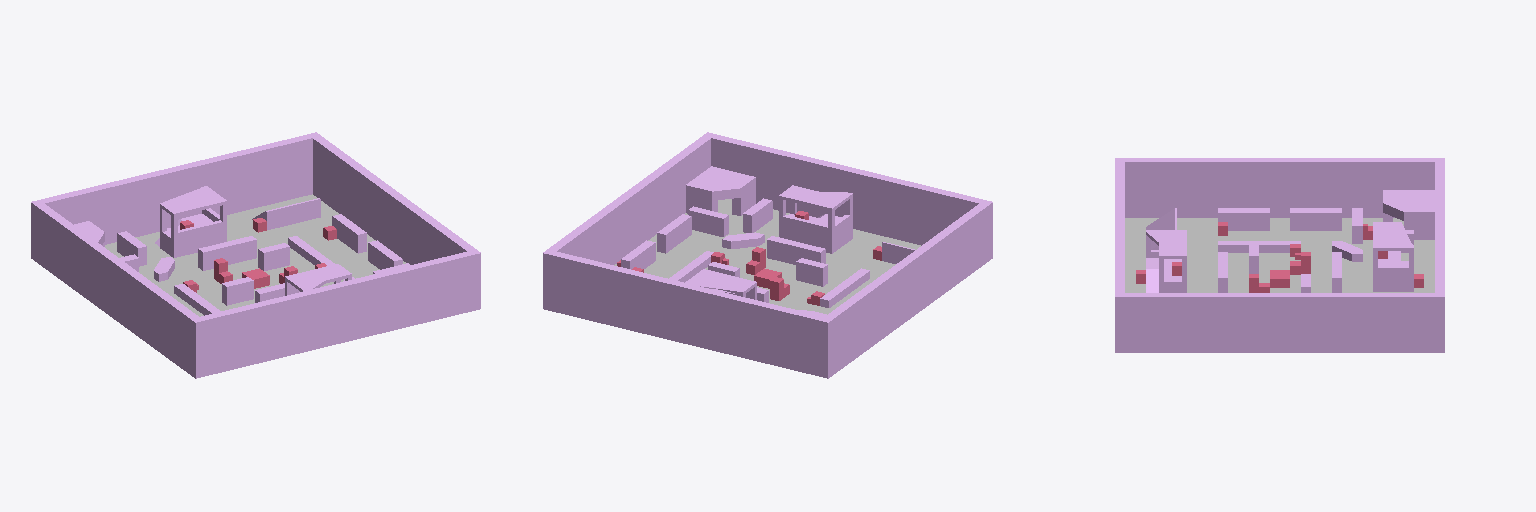
Rendered from newmap.obj.
3 views of the same model, side by side, from view 1: azimuth 30°, elevation 25°; view 2: azimuth 150°, elevation 25°; view 3: azimuth 270°, elevation 25° (orthographic).
Visible parts, largest first — view 1: world_geometry_world_geometry_MESH_world_geometry_world_geo; view 2: world_geometry_world_geometry_MESH_world_geometry_world_geo; view 3: world_geometry_world_geometry_MESH_world_geometry_world_geo.
Part boxes in pixels (bbox=[...]): world_geometry_world_geometry_MESH_world_geometry_world_geo: bbox=[31, 132, 480, 378]; world_geometry_world_geometry_MESH_world_geometry_world_geo: bbox=[543, 132, 992, 378]; world_geometry_world_geometry_MESH_world_geometry_world_geo: bbox=[1115, 158, 1444, 352].
Size of the model in its own units: 195 by 37.18 by 195.